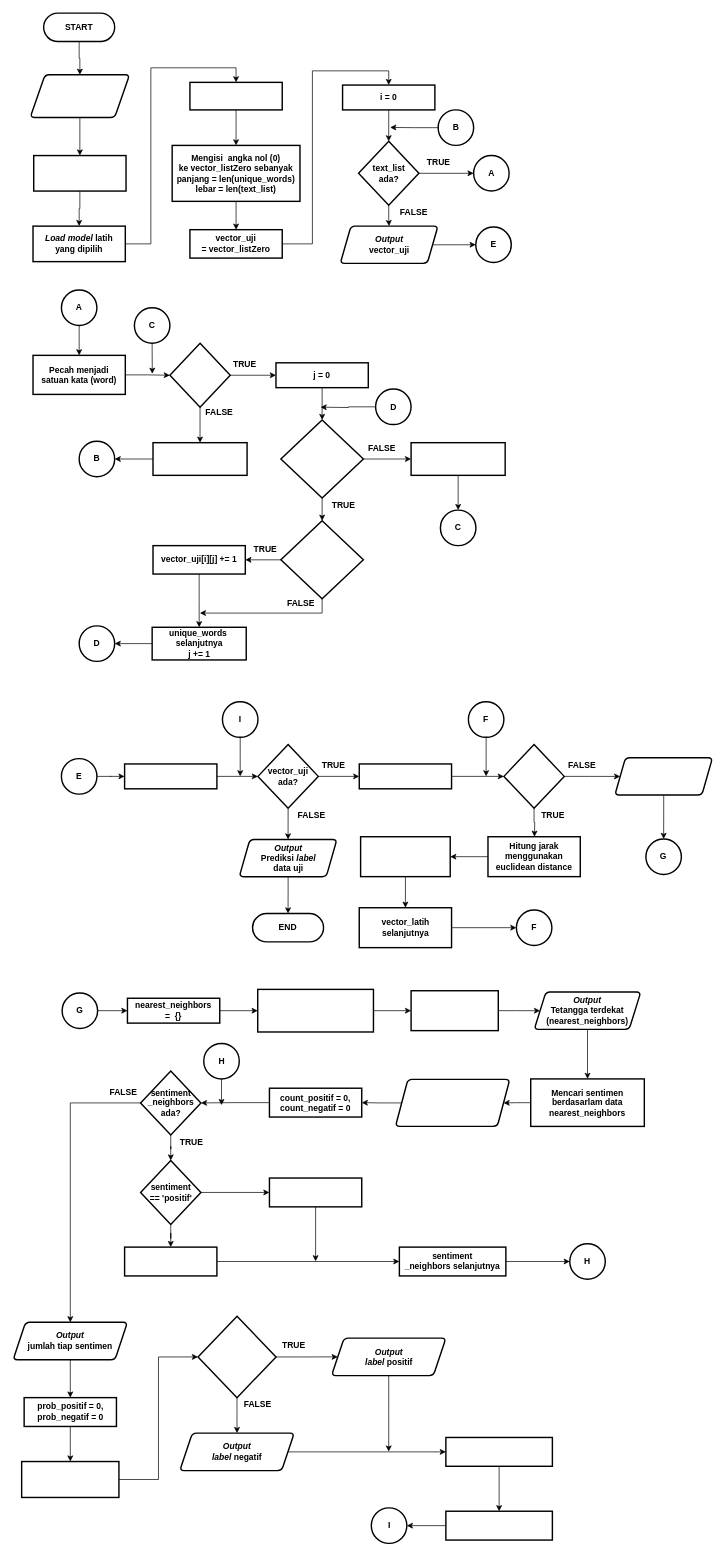
Some shapes in this 725 by 1556 pixel diagram are drawn without their labels. The box of each missing label's shape, as (x1, y1, x2, y2) in pixels:
count_negatif += 1: (124, 1246, 217, 1276)
count_positif += 1: (268, 1177, 362, 1207)
data_hasil = {}: (124, 763, 217, 789)
distance = {}: (358, 763, 452, 789)
Hitung probabilitas tiap sentimen: (21, 1460, 119, 1498)
Input pilih model latih dan nilai K: (29, 74, 130, 118)
Mengambil data dengan index < K: (410, 990, 499, 1031)
Output Jarak tetangga (distance): (614, 757, 713, 795)
Output Sentimen tetangga terdekat (sentiment_neighbors): (394, 1078, 510, 1127)
prob_positif > prob_negatif: (197, 1315, 276, 1398)
Select semua data uji dari database (text_list): (33, 154, 126, 191)
Tampng ke dalam data_hasil: (445, 1436, 553, 1467)
Tampung ke dalam distance: (360, 836, 451, 877)
text_list selanjutnya i += 1: (152, 442, 247, 476)
unique_words ada?: (280, 419, 364, 498)
Urutkan distance berdasarkan nilai terkecil hingga terbesar ( ascending ): (257, 988, 374, 1032)
vector_latih ada?: (503, 743, 565, 809)
vector_listZero = []: (189, 81, 283, 110)
vector_uji selanjutnya: (445, 1510, 553, 1540)
word == unique_words ?: (280, 520, 364, 599)
word ada?: (169, 342, 231, 408)
word selanjutnya: (410, 442, 506, 476)
